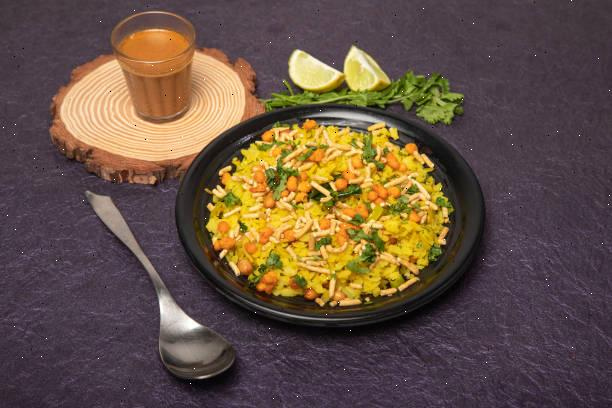poha: (213, 139, 464, 324)
